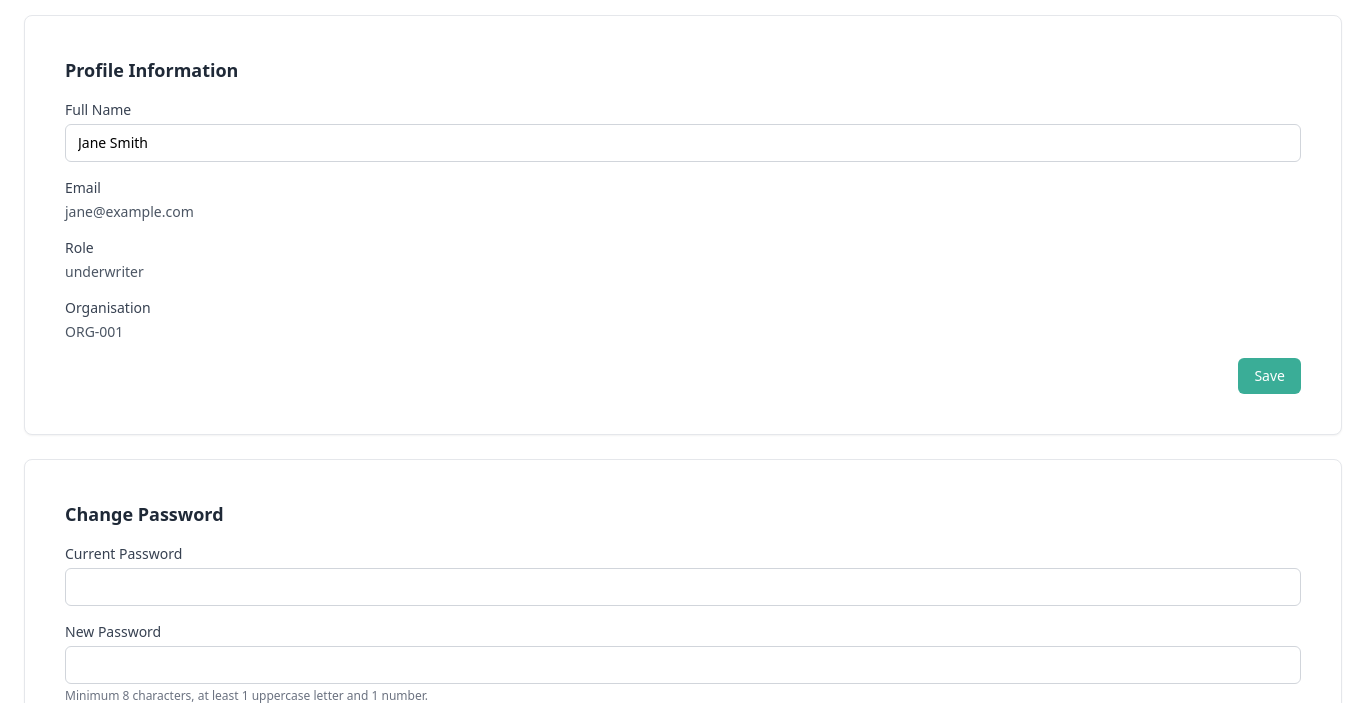
Scenario: T-PROFILE-PW-R07: new password validation — button disabled if rules violated › enables button when password meets all rules
Expected: the field showing "Jane Smith" is shown, [65,124,1301,162]
Type "OldPass1" into the password field labelled "Current Password" at (683, 587), box [65,568,1301,606]
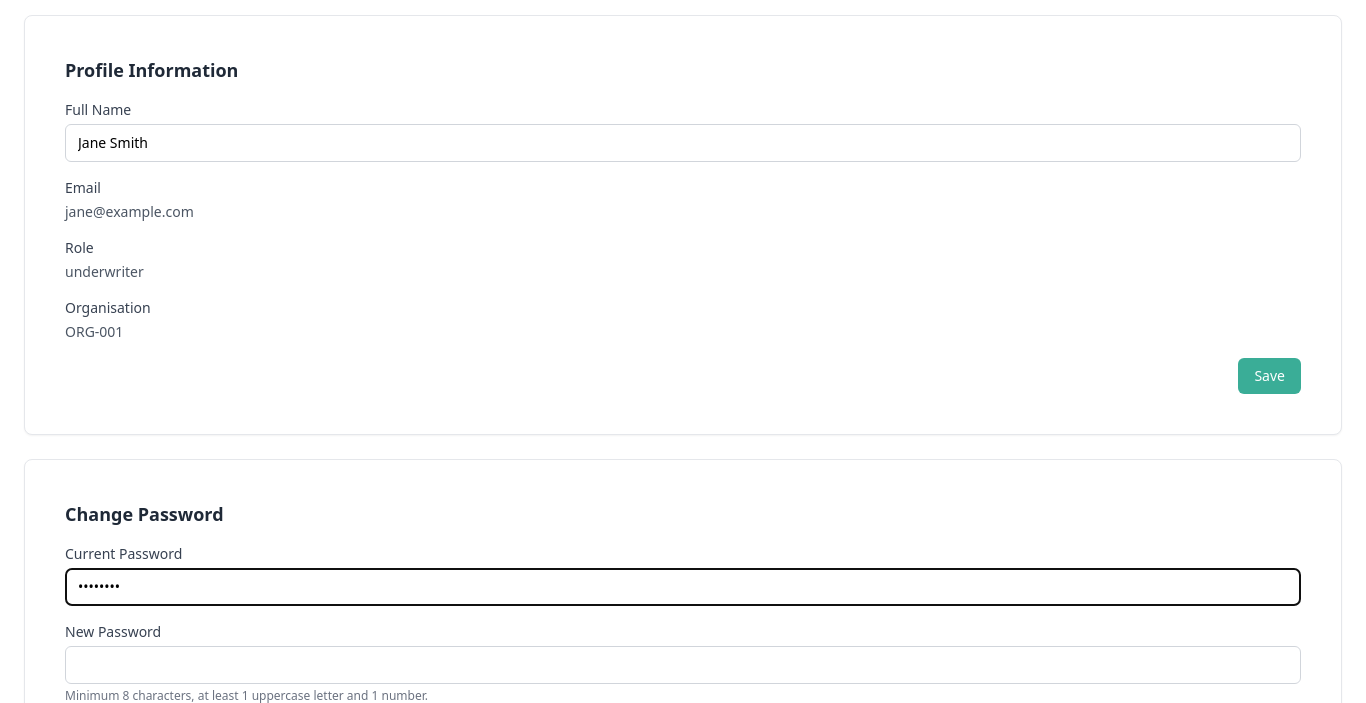
Type "ValidPass1" into the password field labelled "New Password" at (683, 665), box [65,646,1301,684]
(page scrolled)
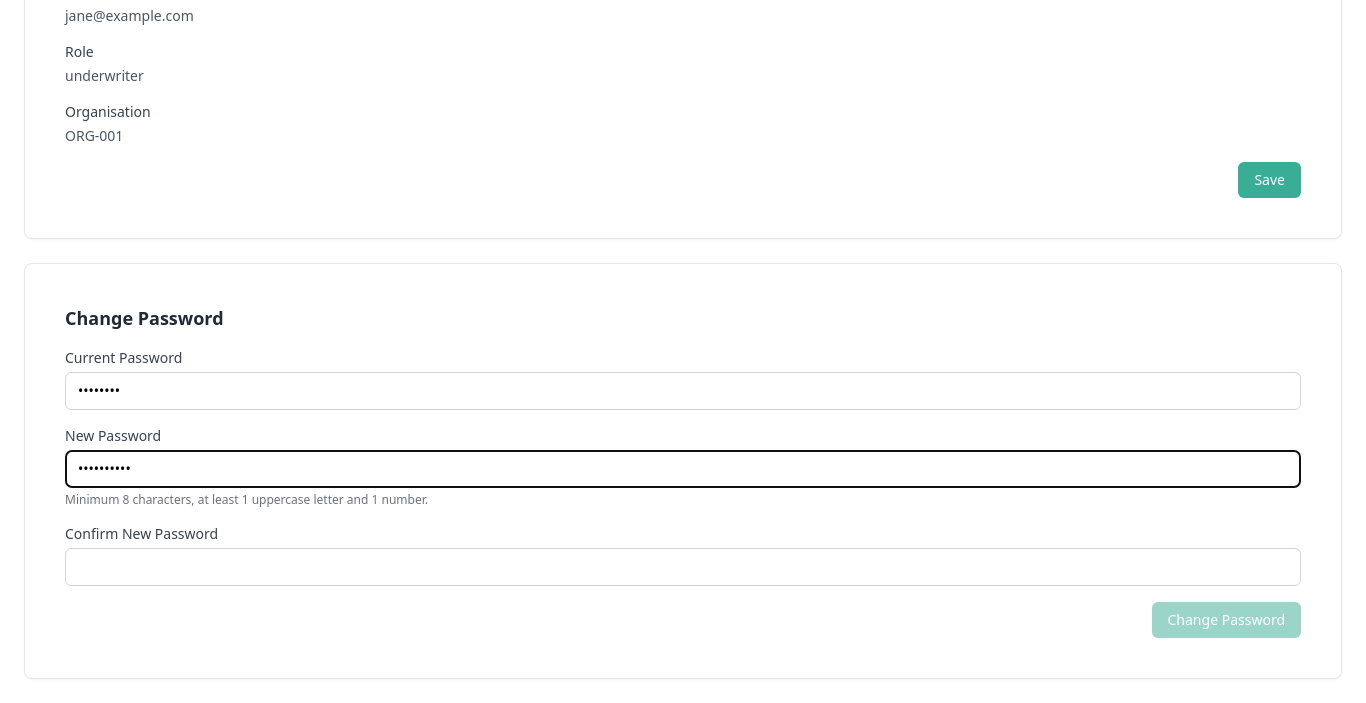
Type "ValidPass1" into the password field labelled "Confirm New Password" at (683, 567), box [65,548,1301,586]
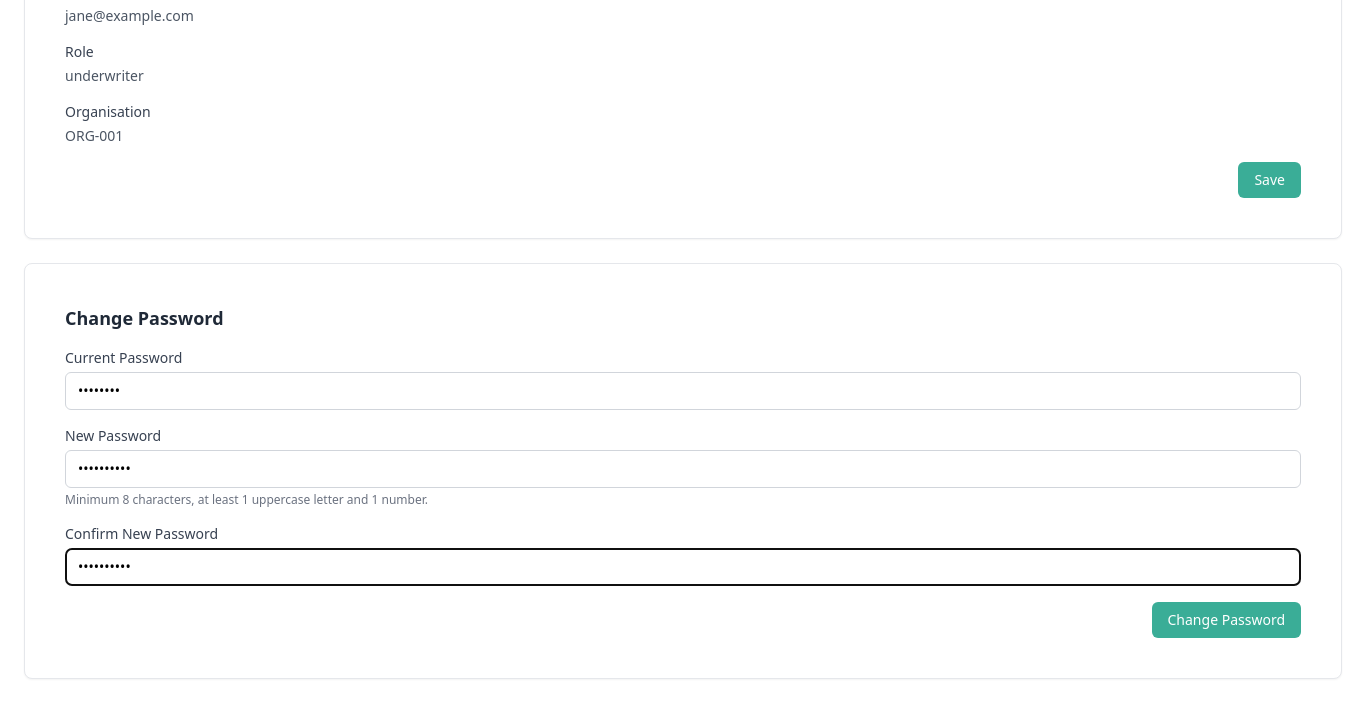
Now the button "Change Password" is enabled, box [1152,602,1301,638]
